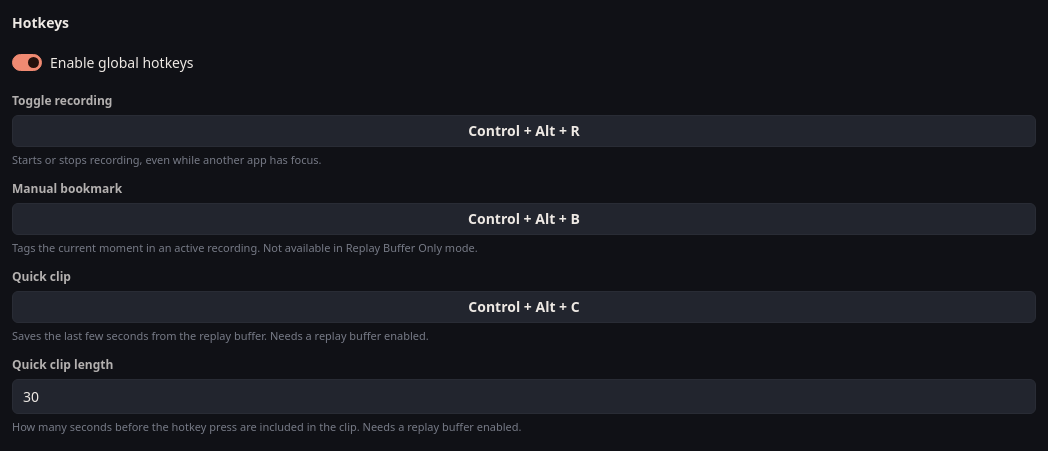
HotkeysPage › cancels capture on Escape without changing the binding
Click the button with aria-label "Quick clip hotkey": (524, 307) [12,291,1036,322]
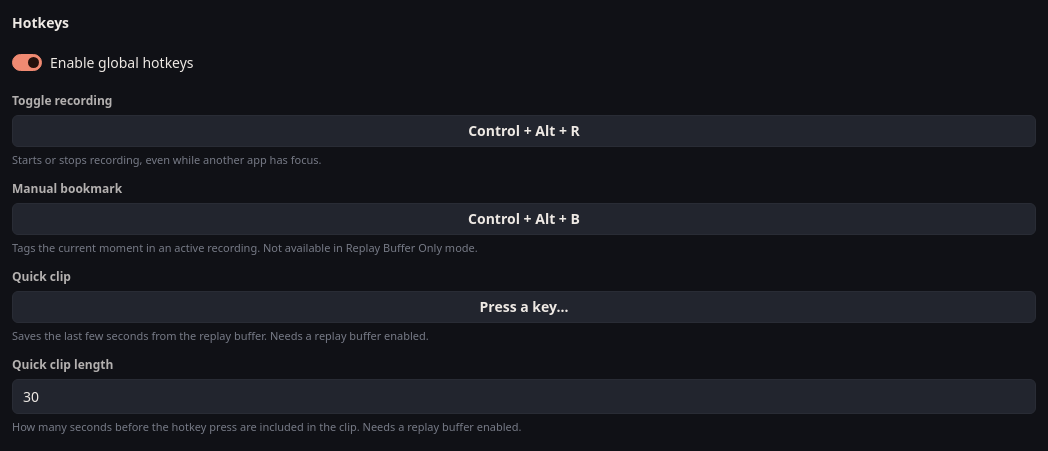
Press Escape
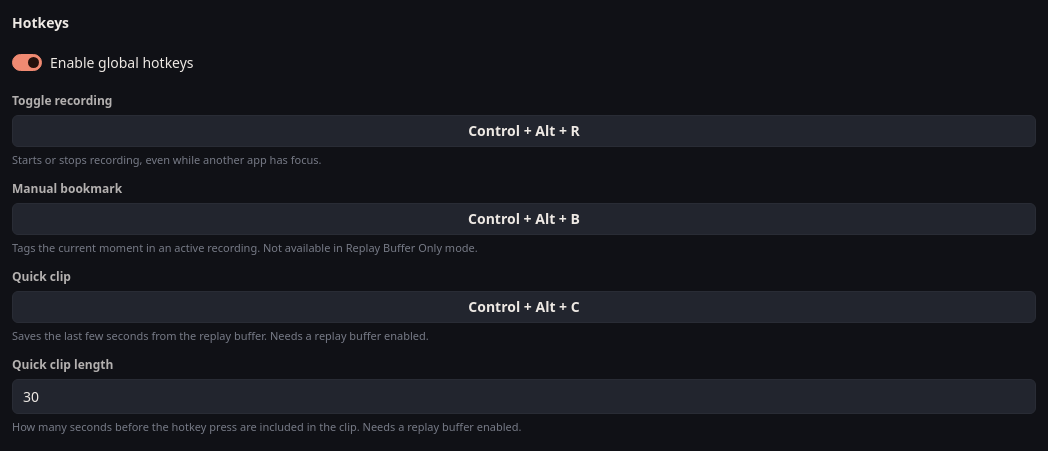
Check: the button with aria-label "Quick clip hotkey" reads "Control + Alt + C", box [12,291,1036,322]
